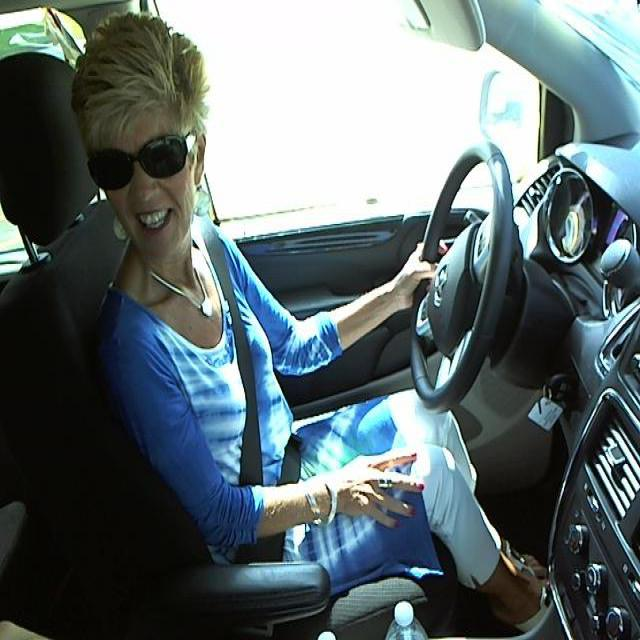seatbelt: (213, 244, 311, 497)
